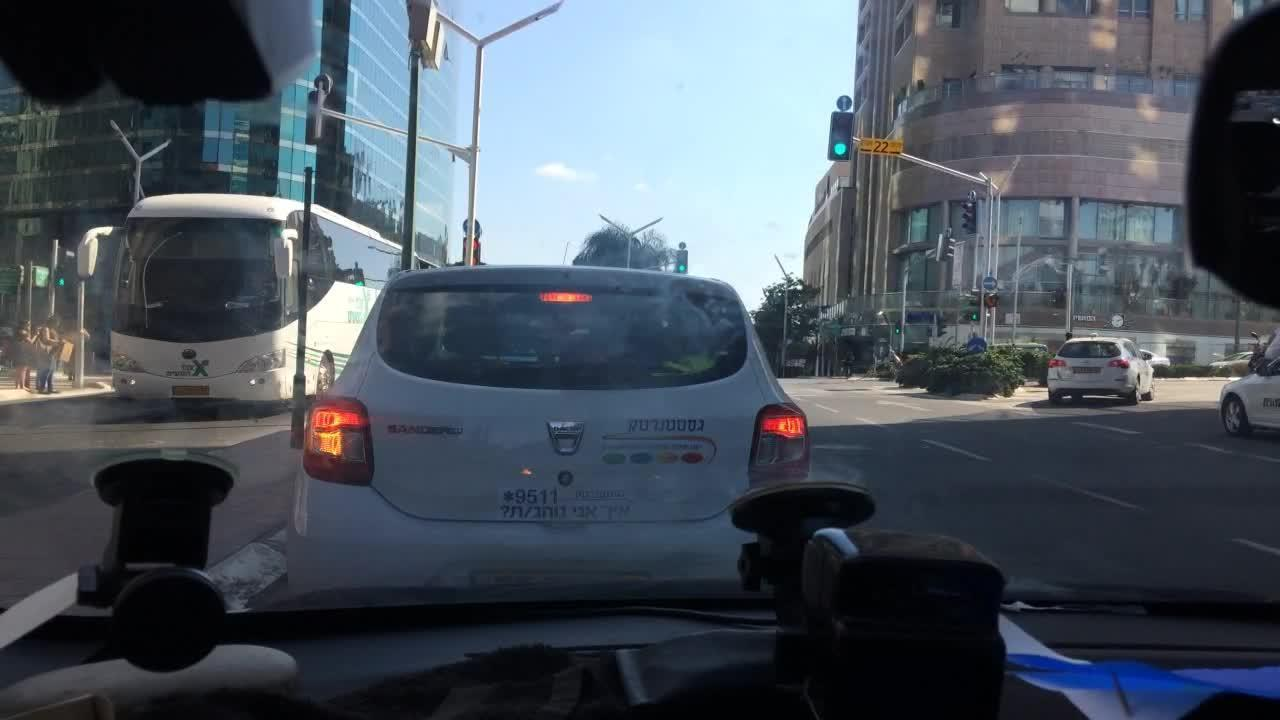no class: (543, 417, 588, 457)
